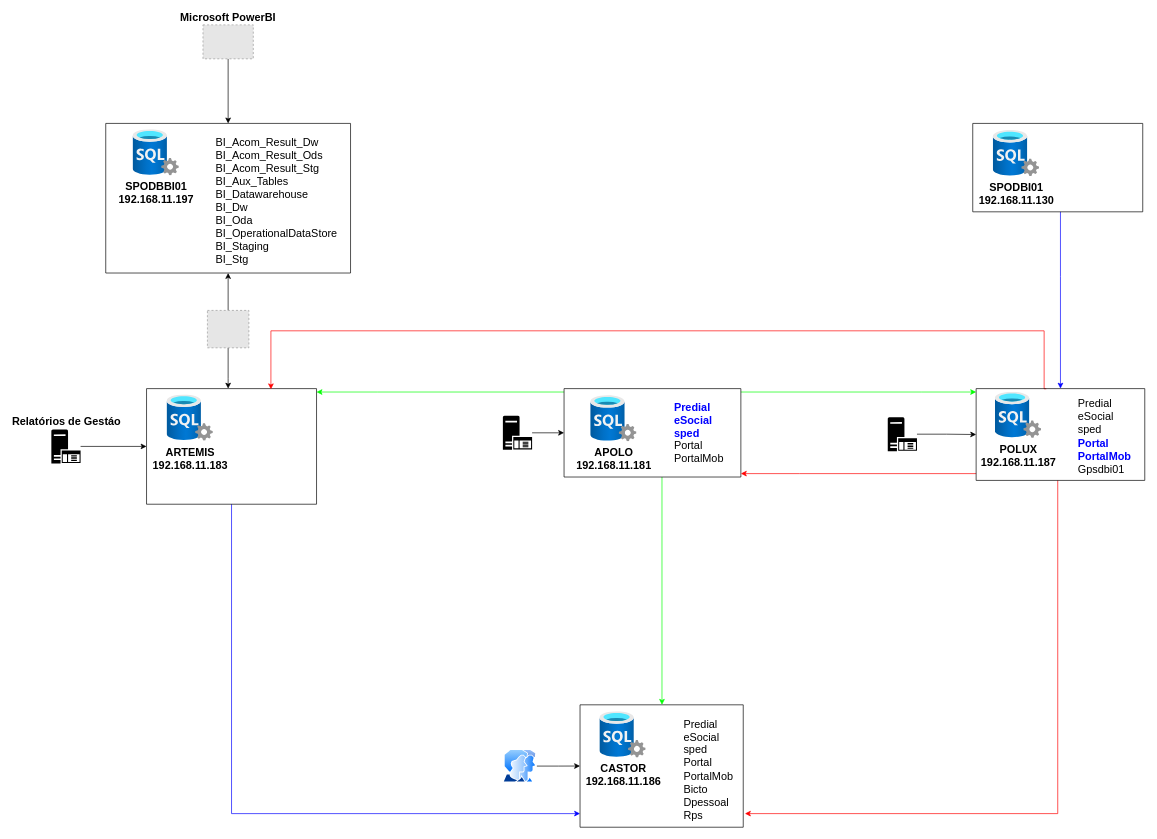
Image size: 1157x839. Some labels were removed from this diagram. Grey dashed boxes stand in for pictures. The centre of each missing label's shape, as x and y in pixels:
"ERP" goes at point (517, 432).
"Gpsdbi01" goes at point (1057, 167).
"Predial eSocial sped Portal PortalMob Bicto Dpessoal Rpa" goes at point (231, 446).
"Sistema de Gestão" goes at point (902, 434).
"Usuários" goes at point (520, 765).
